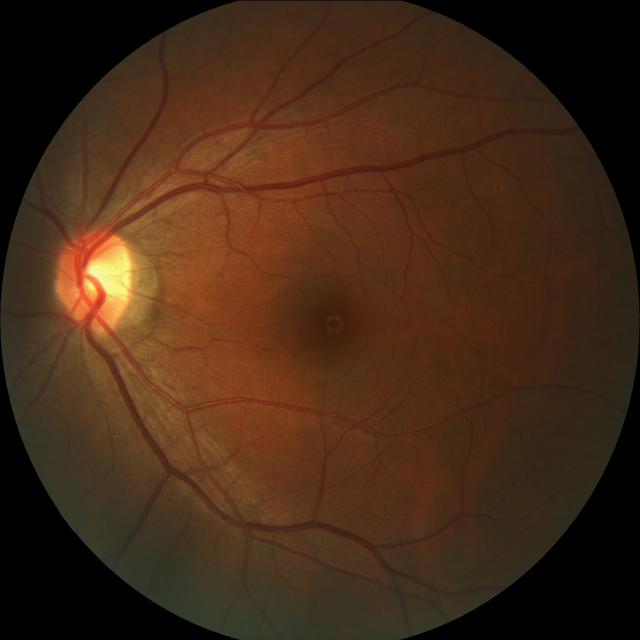OC: (74, 250, 121, 300)
OD: (58, 226, 136, 328)
